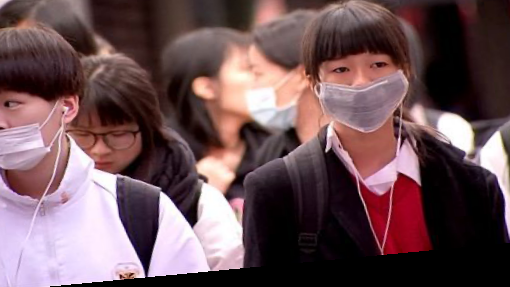mask_weared_incorrect: (292, 1, 432, 128), (1, 18, 90, 203)
